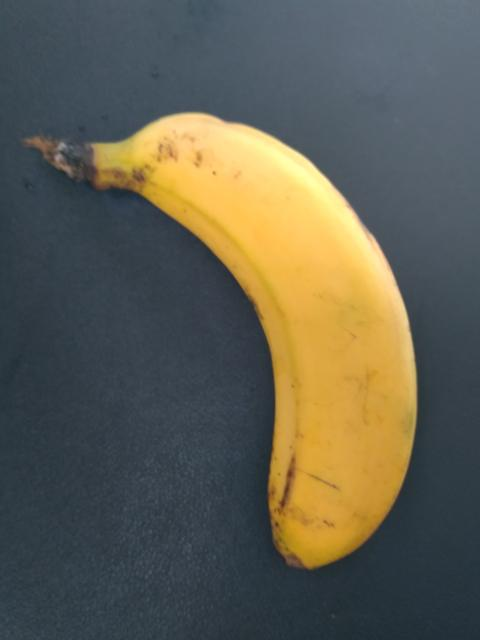freshripe: (126, 108, 451, 596)
